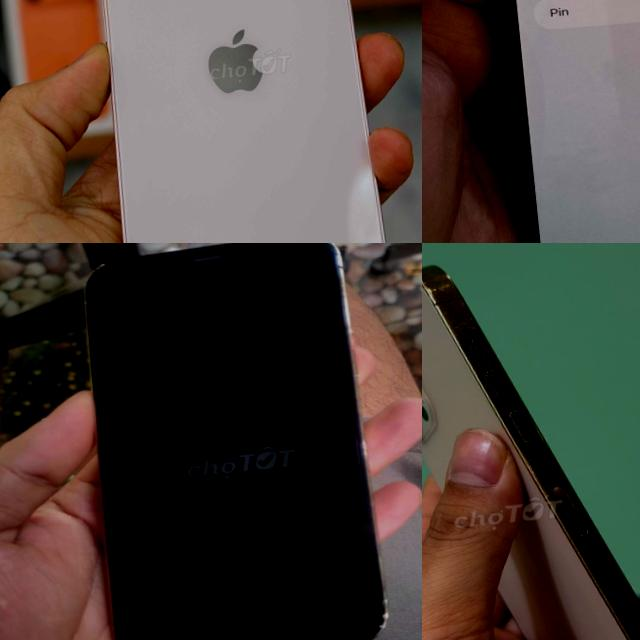gen_12_13: (68, 243, 392, 640), (422, 243, 640, 640), (80, 0, 412, 243)
gen_14: (464, 0, 640, 243)
scratch: (443, 303, 618, 595)
